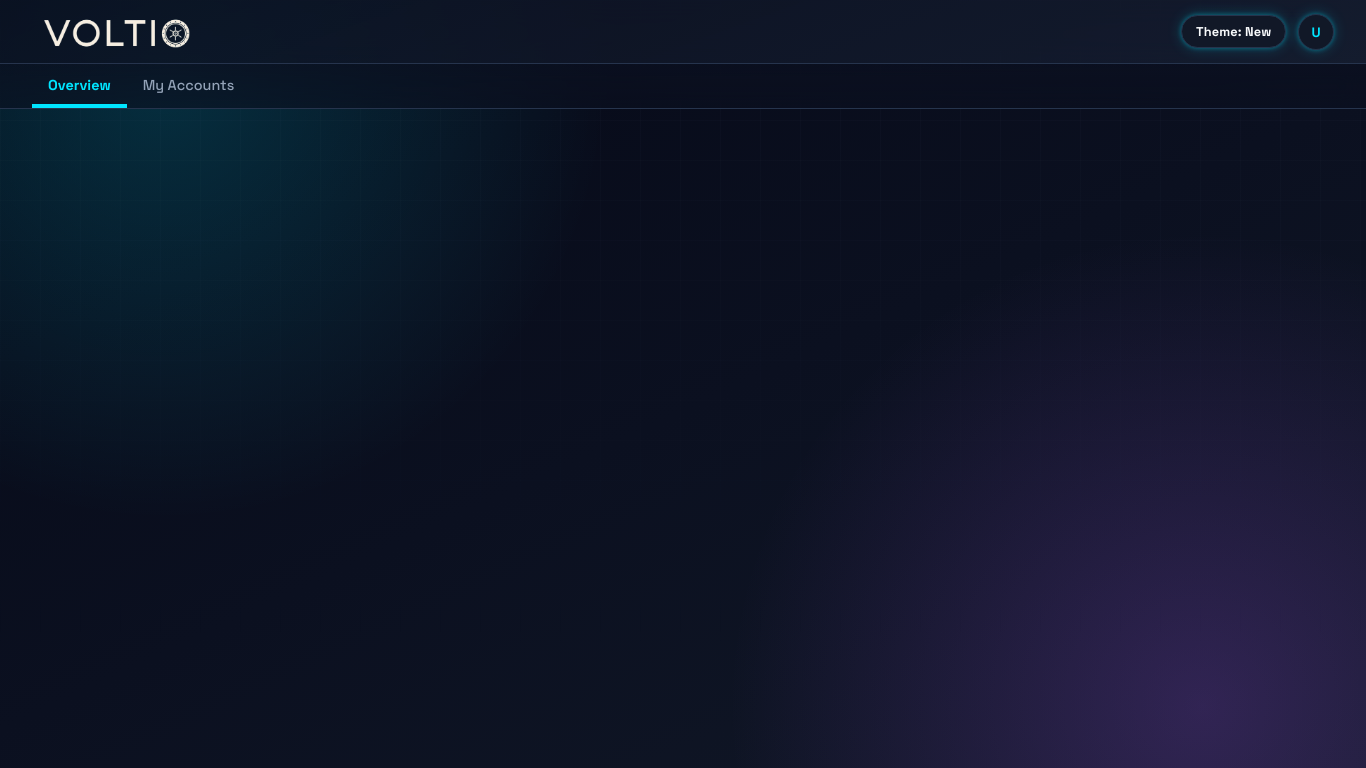
Test: Navbar and Sub-Navbar (AppLayout) › profile dropdown › closes the dropdown when clicking outside the navbar-profile area
Click the button named "open profile menu" at (1316, 32), box [1298,14,1334,50]
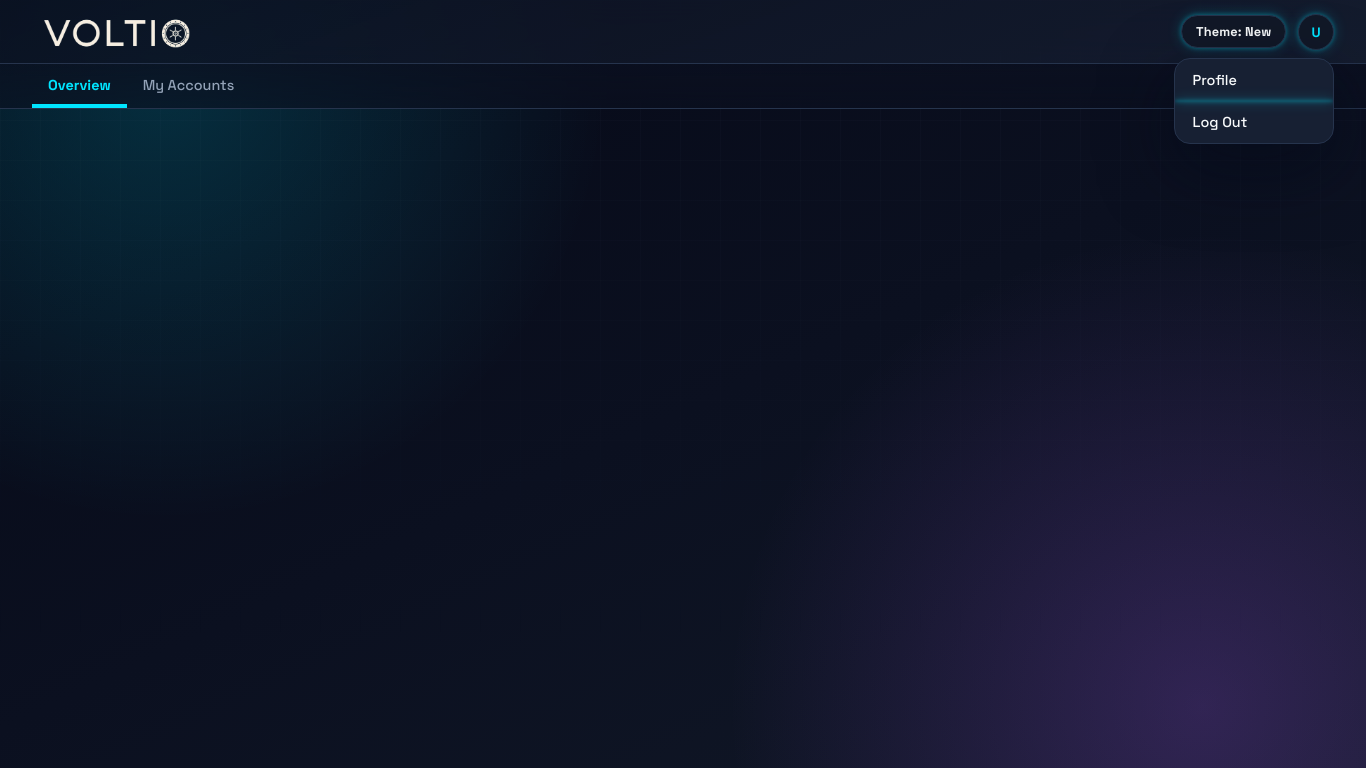
Check: the button "Profile" is shown, box [1175,58,1333,100]
Press the mouse on the element showing "Theme: New U Profile Log Out Overview My Accounts" at (683, 384), box [0,0,1365,767]
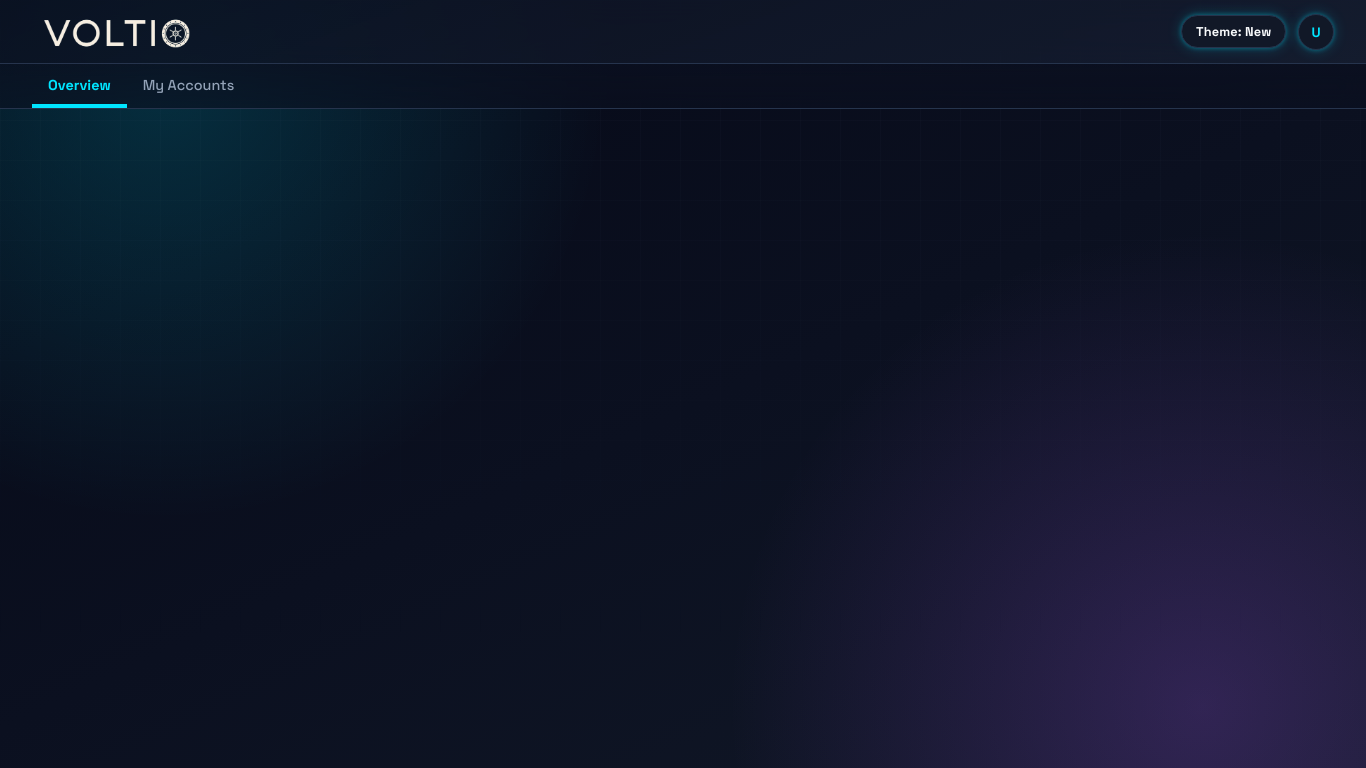
Check: the button "Profile" is gone
